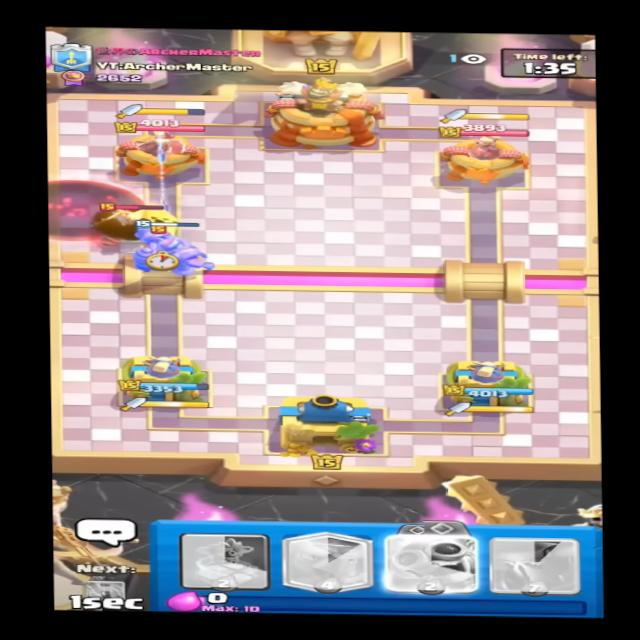x-bow: (90, 202, 182, 254)
